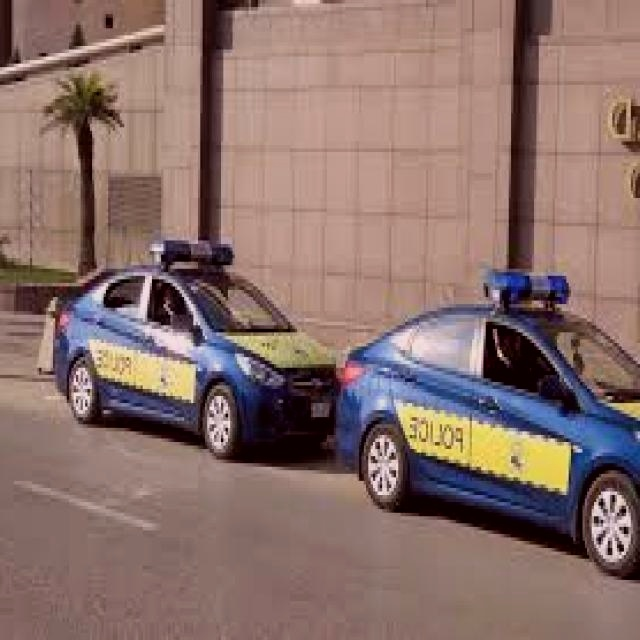police-car: (334, 265, 640, 576), (51, 237, 341, 456)
